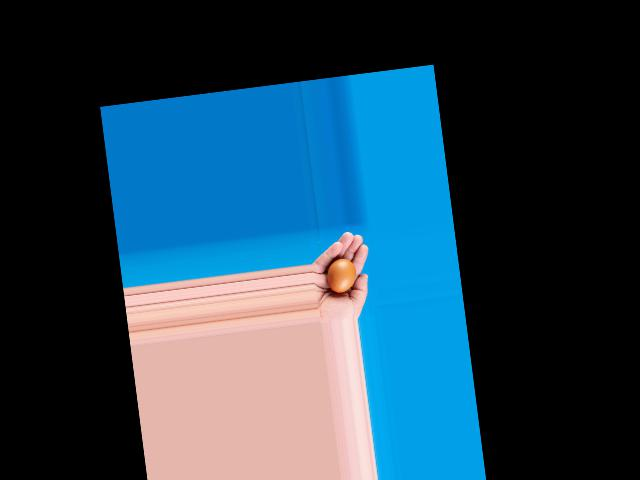egg: (325, 256, 357, 293)
